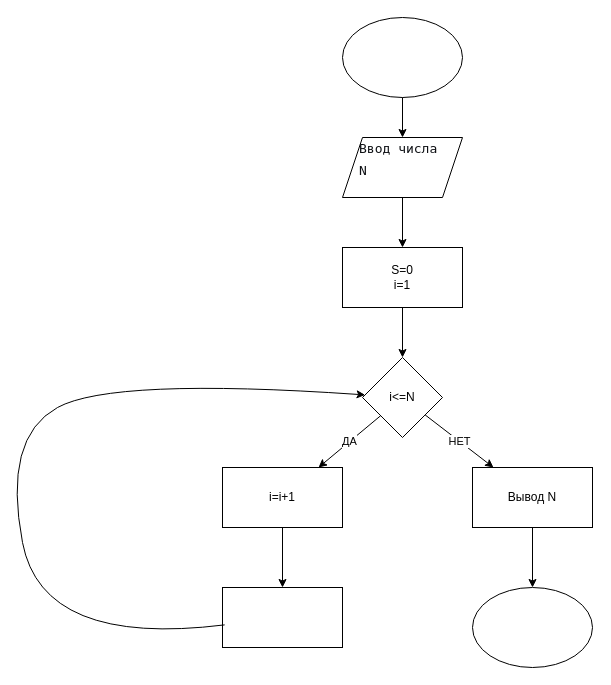
This 611x685 diagram has some shape labels left out. The shapes that lost their labels are listed below. From the top down, each one's centre as x and y in pixels, then its label:
At (402,57): "НАЧАЛО".
At (282,617): "S=S+i".
At (532,627): "КОНЕЦ".
